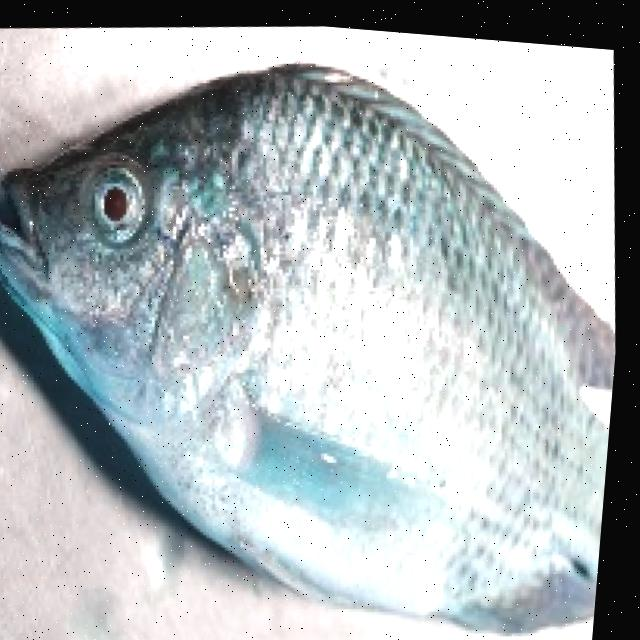Fresh: (0, 66, 636, 640)
